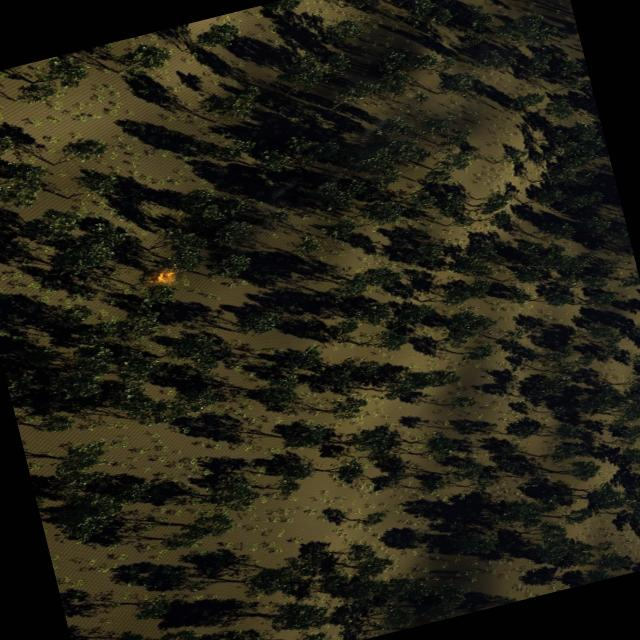fire: (151, 268, 176, 288)
